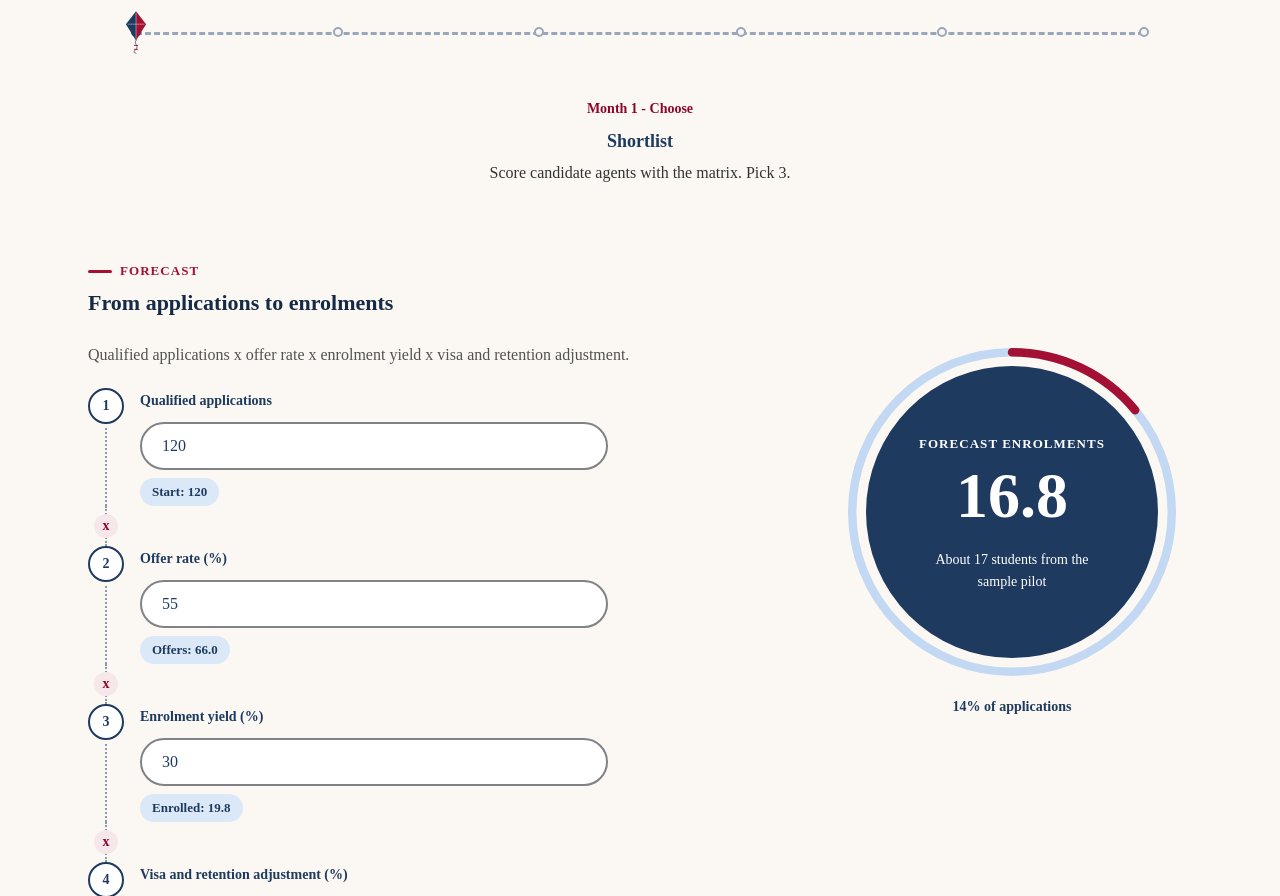
Test: AgentStrategy › forecast › shows the result as a live region that follows the inputs
(page scrolled)
expect the message named "Live result" shows "16.8": met, box [956,460,1068,531]
Replace the text in the number field labelled "Qualified applications" with "200" at (374, 446), box [140,422,608,470]
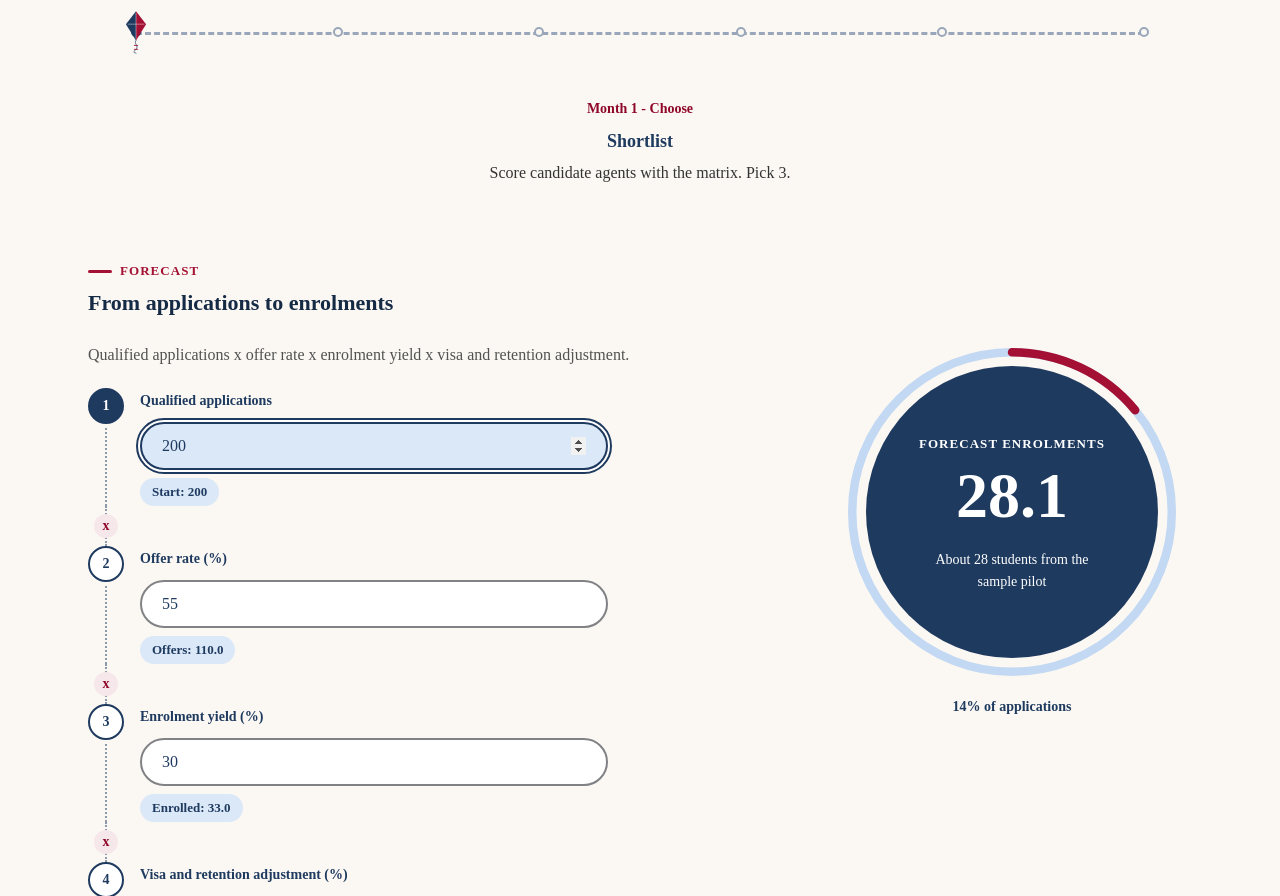
expect the message named "Live result" shows "28.1": met, box [956,460,1068,531]
